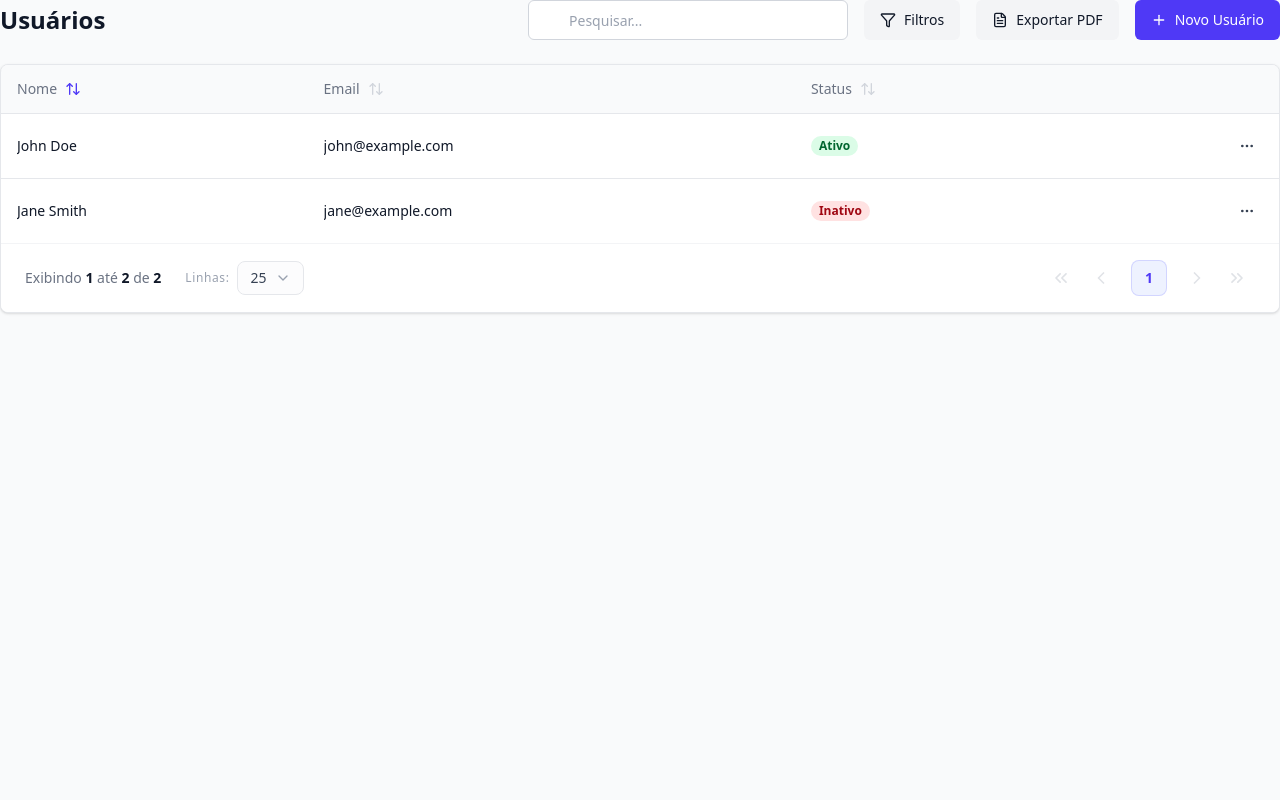
Scenario: UserListPage › handles delete mutation error
Expected: the text "John Doe" is shown, [17,136,77,154]
Click the button named "Abrir menu" in the row of "John Doe": click(1247, 146) [1231,130,1263,162]
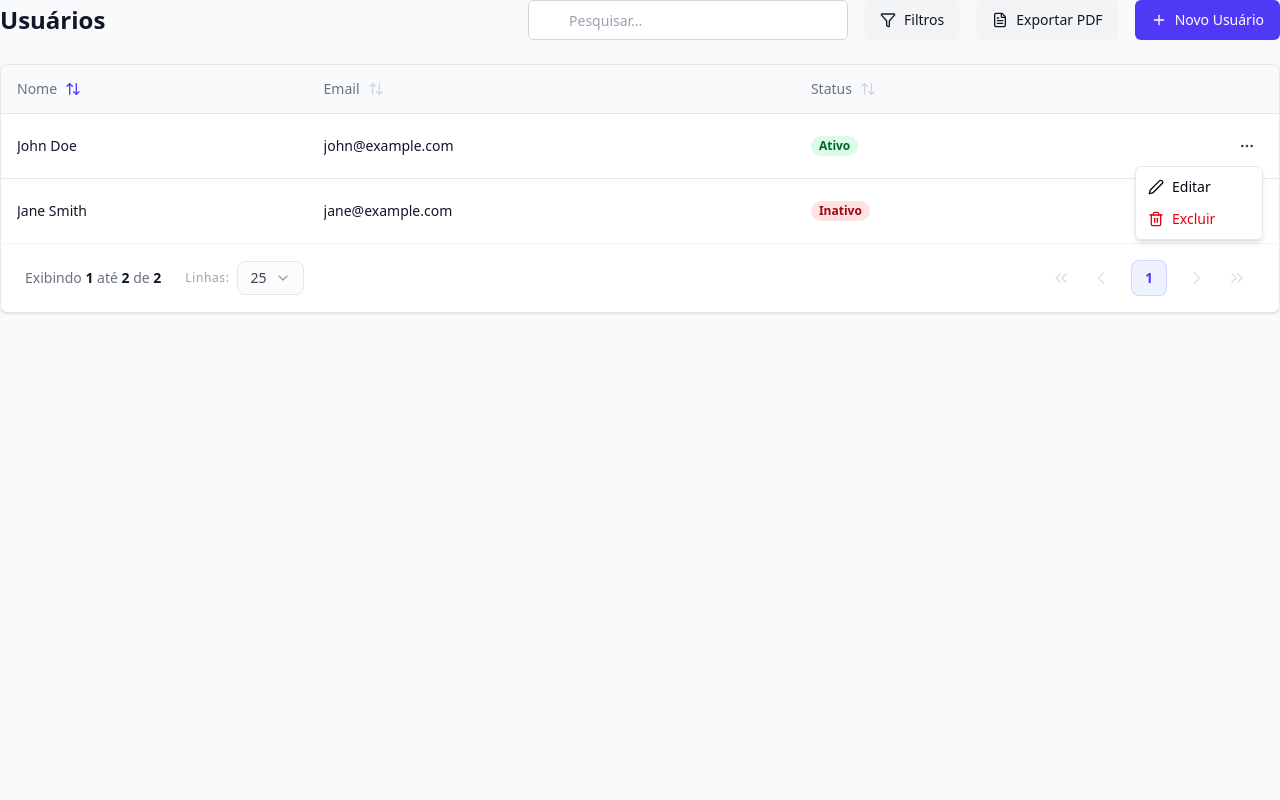
Click the menu item "Excluir": click(1182, 218) [1148,209,1215,228]
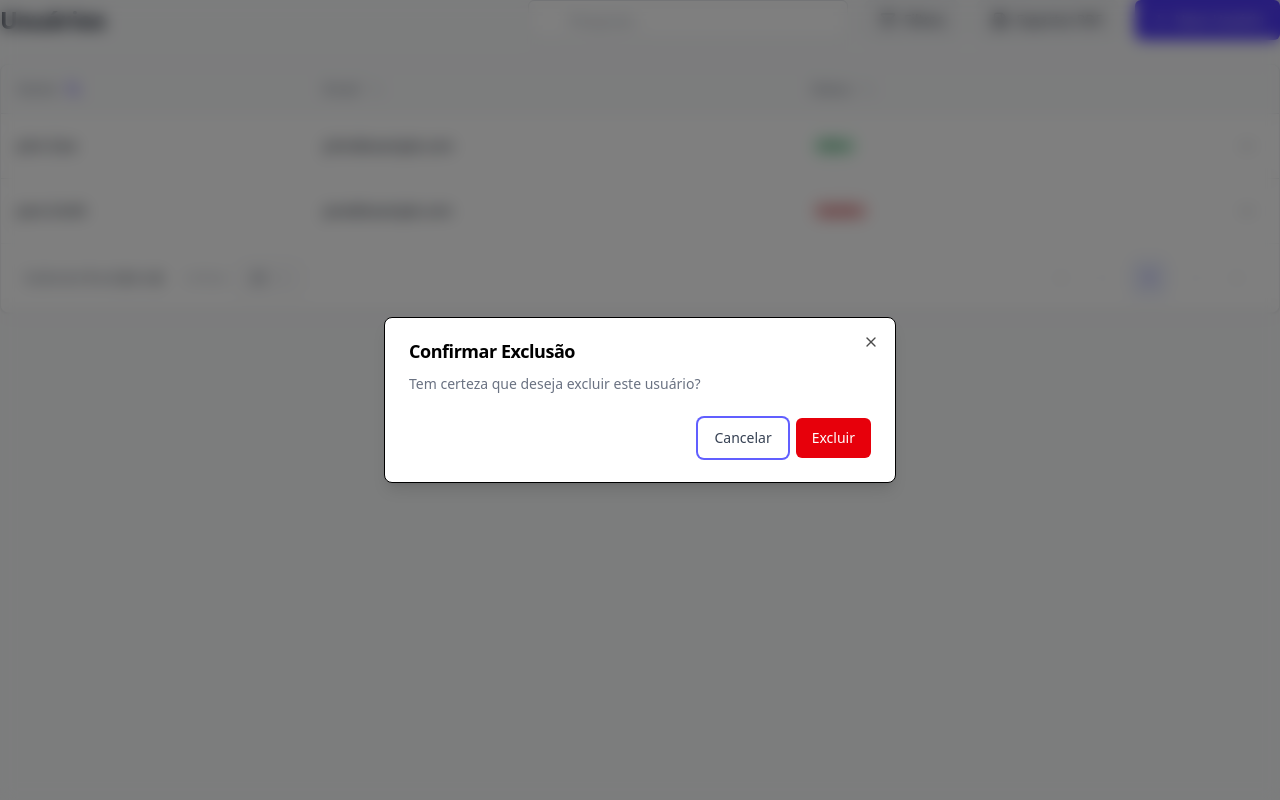
Click the button "Excluir": click(833, 438) [796,418,871,458]
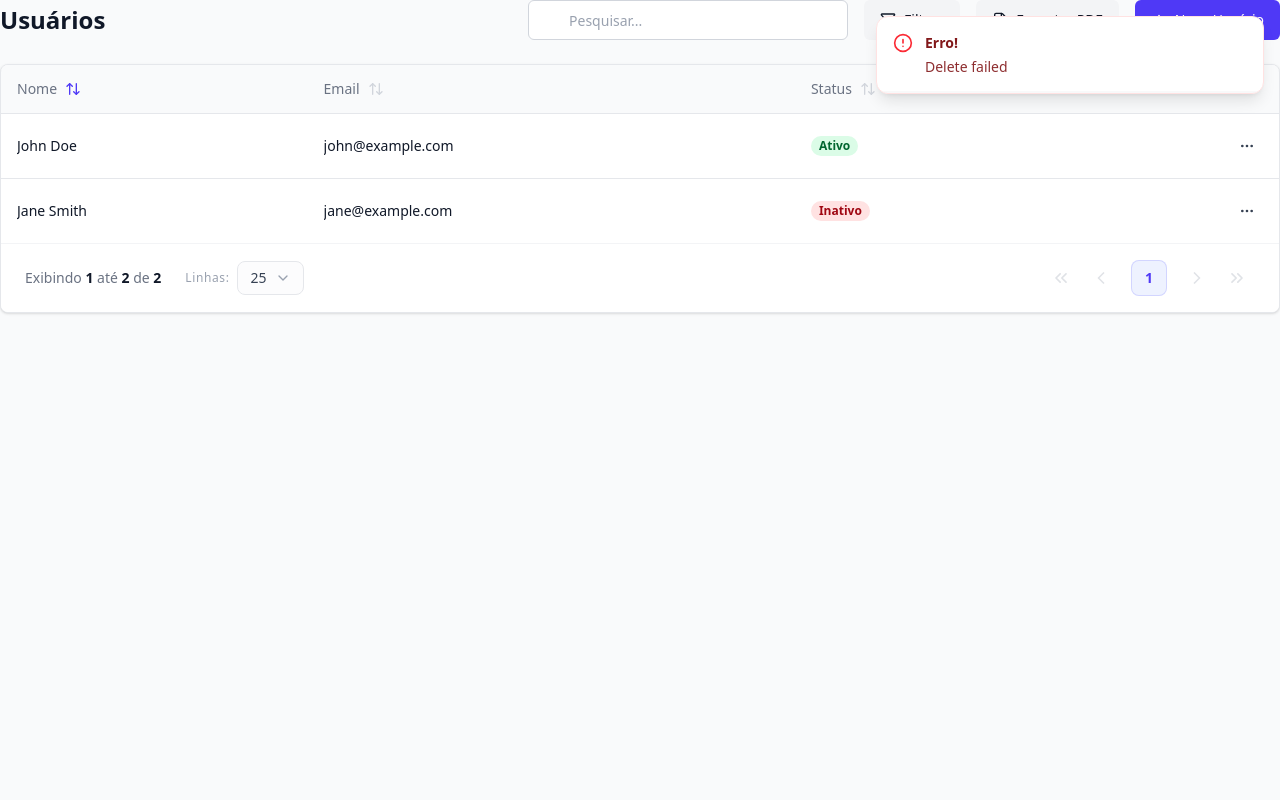
Now the text "Delete failed" is shown, box [925,57,1008,77]
